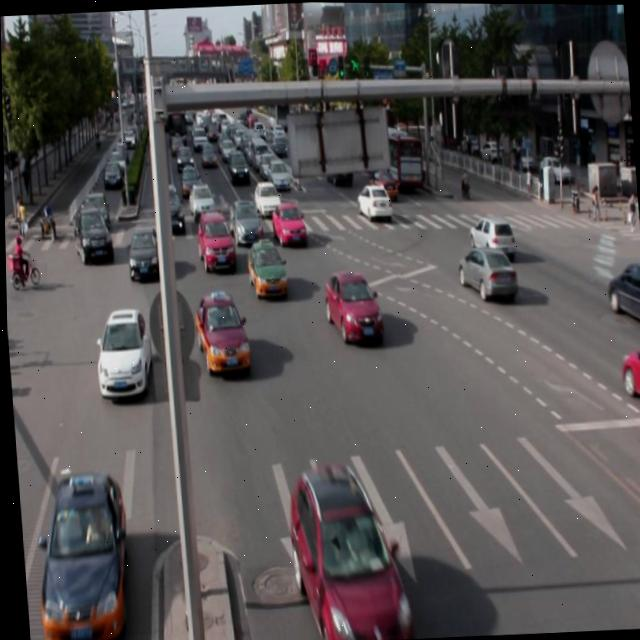car: (285, 460, 409, 640), (30, 469, 131, 640), (90, 305, 153, 393), (193, 290, 250, 376), (322, 266, 382, 345), (455, 244, 516, 301), (602, 258, 640, 333), (244, 235, 286, 300), (196, 210, 235, 271), (466, 212, 513, 259), (615, 340, 640, 420), (125, 225, 160, 280)
